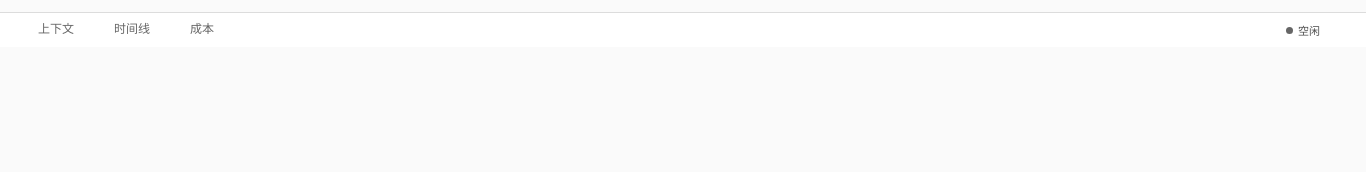
Test case: BottomPanel 移动端标签条 › ≤560px 展开更多后，第二行标签排在状态行之前
Click the button named "更多面板标签".
click(242, 30)  # box [226,14,259,46]
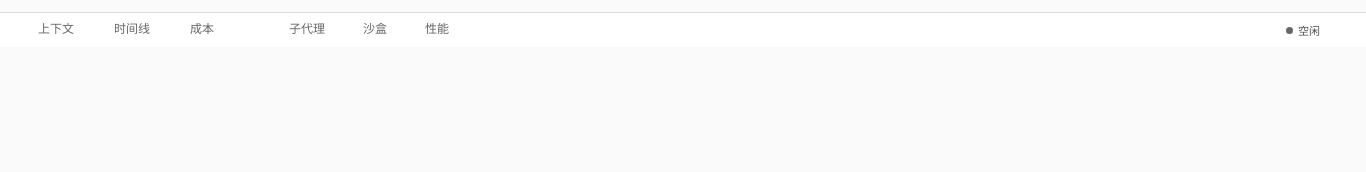
Expected: the element showing "上下文 时间线 成本 子代理 沙盒 性能 空闲" is shown, [0,13,1365,47]
Now the element showing "子代理 沙盒 性能" is shown, box [261,14,459,46]
